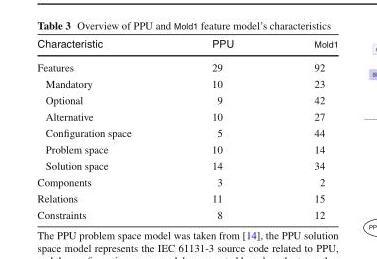table: (36, 36, 337, 220)
table column: (36, 36, 170, 220), (170, 36, 273, 220), (273, 36, 337, 220)
table column header: (36, 36, 337, 54)
table row: (36, 54, 337, 75), (36, 36, 337, 54), (36, 107, 337, 124), (36, 156, 337, 173), (36, 189, 337, 206), (36, 75, 337, 91), (36, 91, 337, 107), (36, 124, 337, 140), (36, 140, 337, 156), (36, 173, 337, 189), (36, 206, 337, 220)
